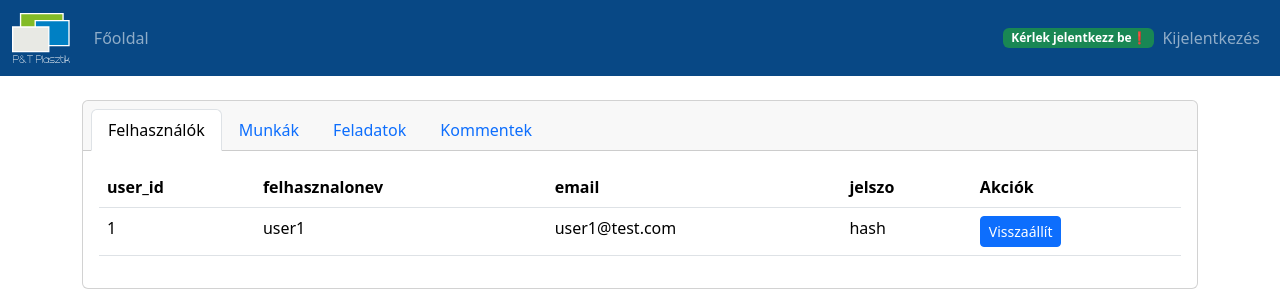
Test: DeletedItems Component › Restore Functionality › should handle restore error gracefully
The image size is (1280, 306).
Check: the text "user1" is shown, box [255,208,547,256]
Click the button "Visszaállít" at (1021, 232), box [980,216,1061,247]
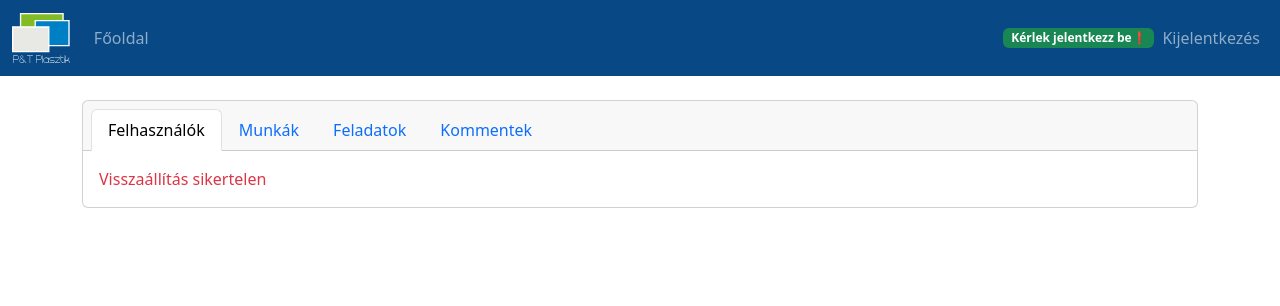
Check: the text "Visszaállítás sikertelen" is shown, box [99,168,266,190]
